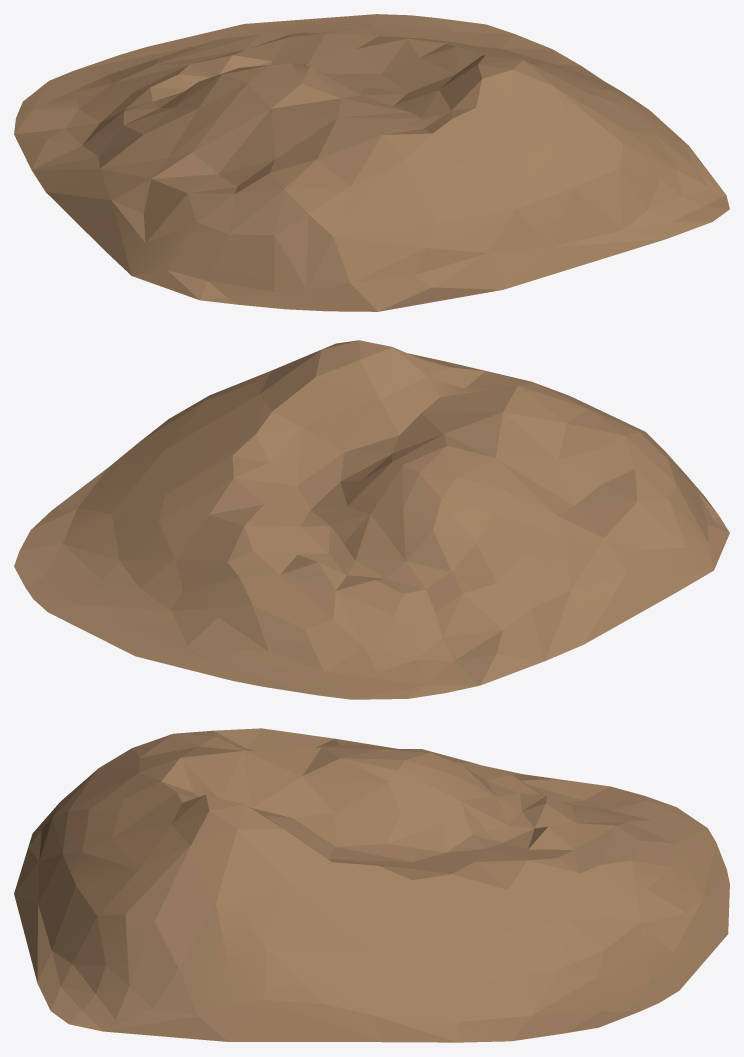
File: Hill_03.fbx
3 renders of one model, top to bottom at view 1: azimuth 30°, elevation 25°; view 2: azimuth 150°, elevation 25°; view 3: azimuth 270°, elevation 25°, orthographic. The views are drawn at different scales.
Parts seen in each view (by area): view 1: Hill_03; view 2: Hill_03; view 3: Hill_03.
Boxes of the visible parts, x1,y1,x2,y2 form: Hill_03: (14, 14, 729, 311); Hill_03: (14, 340, 729, 699); Hill_03: (14, 728, 729, 1042).
Size of the model in its own units: 5768 by 1283 by 6113.
